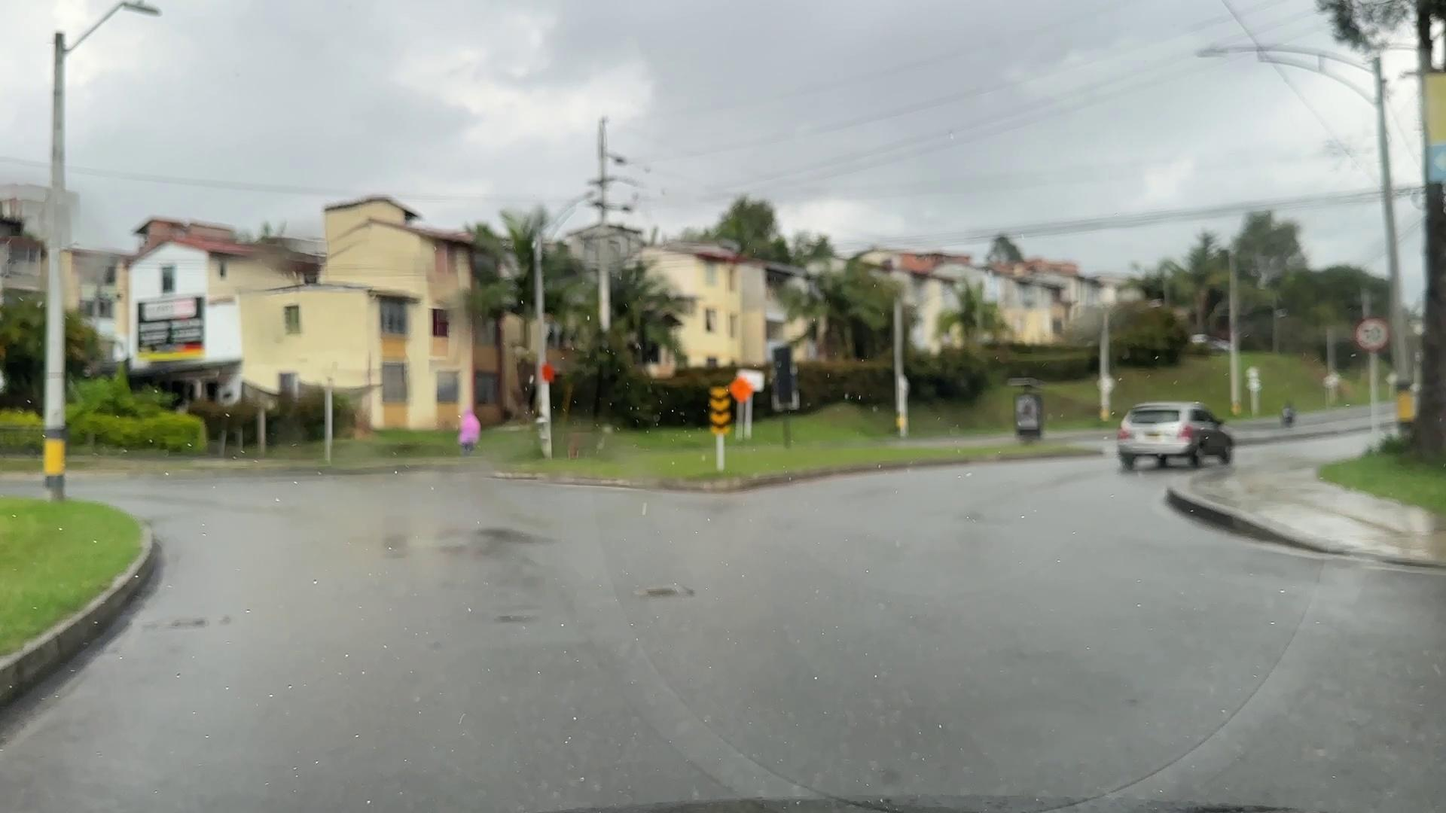bache: (648, 589, 678, 598)
